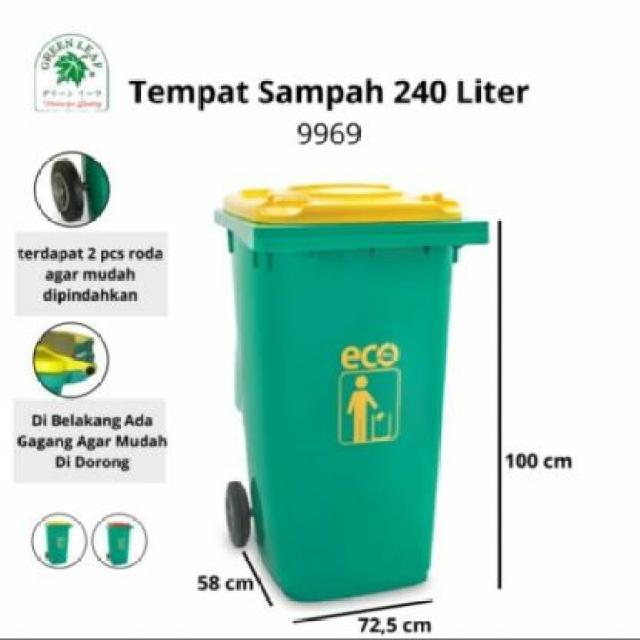garbage container: (214, 177, 493, 608)
